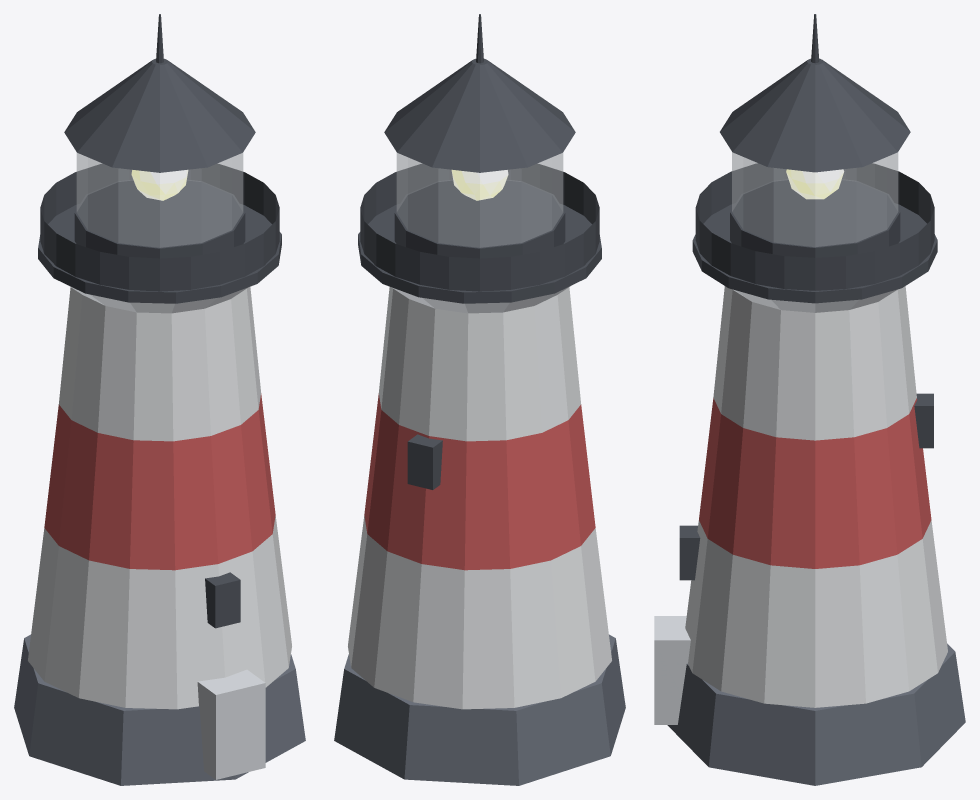
File: echocraft_lighthouse.glb
The picture shows the model from 3 angles, left to right: view 1: azimuth 30°, elevation 25°; view 2: azimuth 150°, elevation 25°; view 3: azimuth 270°, elevation 25°; orthographic projection.
Parts seen in each view (by area): view 1: Tower_Lower_Ivory, Tower_Mid_Crimson, Tower_Upper_Ivory, Lighthouse_Foundation, Lantern_Roof, Balcony_Railing, Lantern_Glazing, Lantern_Base, Lighthouse_Door_Frame, Balcony_Deck, Window_Z18, Tower_Cornice (+1 smaller); view 2: Tower_Lower_Ivory, Tower_Mid_Crimson, Tower_Upper_Ivory, Lighthouse_Foundation, Lantern_Roof, Balcony_Railing, Lantern_Glazing, Lantern_Base, Balcony_Deck, Window_Z32, Tower_Cornice, Lantern_Fresnel_Core; view 3: Tower_Lower_Ivory, Tower_Mid_Crimson, Tower_Upper_Ivory, Lighthouse_Foundation, Lantern_Roof, Balcony_Railing, Lantern_Glazing, Lantern_Base, Balcony_Deck, Lighthouse_Door_Frame, Lantern_Fresnel_Core, Tower_Cornice (+2 smaller).
Part boxes in pixels (box(x1,y1,x2,y2)): Tower_Lower_Ivory: box(28, 516, 291, 709); Tower_Mid_Crimson: box(44, 393, 275, 570); Tower_Upper_Ivory: box(59, 287, 260, 441); Lighthouse_Foundation: box(14, 634, 305, 785); Lantern_Roof: box(64, 58, 255, 172); Balcony_Railing: box(40, 164, 279, 291); Lantern_Glazing: box(76, 153, 243, 247); Lantern_Base: box(74, 180, 245, 258); Lighthouse_Door_Frame: box(197, 669, 265, 779); Balcony_Deck: box(38, 204, 281, 303); Window_Z18: box(205, 572, 240, 628); Tower_Cornice: box(68, 285, 248, 313); Tower_Lower_Ivory: box(348, 516, 611, 709); Tower_Mid_Crimson: box(364, 393, 595, 570); Tower_Upper_Ivory: box(379, 287, 580, 441); Lighthouse_Foundation: box(334, 634, 625, 785); Lantern_Roof: box(384, 58, 575, 172); Balcony_Railing: box(360, 164, 599, 291); Lantern_Glazing: box(396, 153, 563, 247); Lantern_Base: box(394, 180, 565, 258); Balcony_Deck: box(358, 204, 601, 303); Window_Z32: box(407, 434, 442, 489); Tower_Cornice: box(391, 285, 571, 313); Lantern_Fresnel_Core: box(451, 170, 508, 200); Tower_Lower_Ivory: box(685, 520, 947, 707); Tower_Mid_Crimson: box(699, 398, 931, 568); Tower_Upper_Ivory: box(713, 286, 916, 440); Lighthouse_Foundation: box(667, 643, 965, 785); Lantern_Roof: box(720, 58, 910, 172); Balcony_Railing: box(695, 163, 934, 290); Lantern_Glazing: box(732, 152, 898, 246); Lantern_Base: box(730, 179, 900, 257); Balcony_Deck: box(692, 203, 937, 303); Lighthouse_Door_Frame: box(654, 616, 690, 724); Lantern_Fresnel_Core: box(786, 169, 843, 199); Tower_Cornice: box(733, 289, 897, 312).
Size of the model in its own units: 2.9 by 7.52 by 3.
